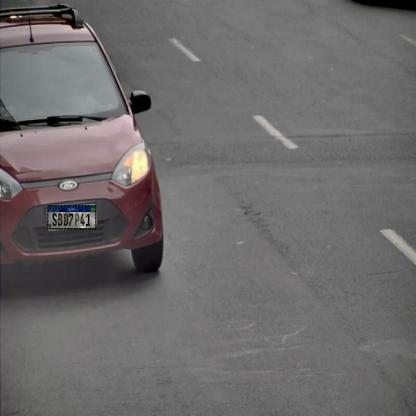PlacaM: (48, 205, 96, 230)
